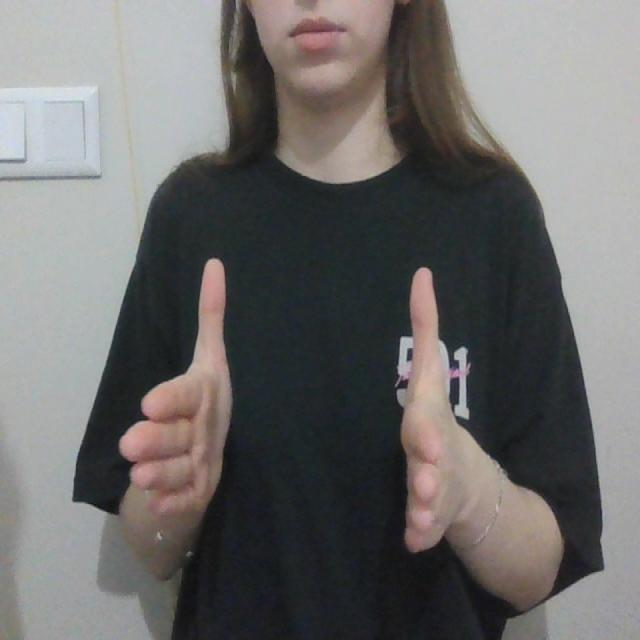Nasil: (117, 235, 471, 588)
